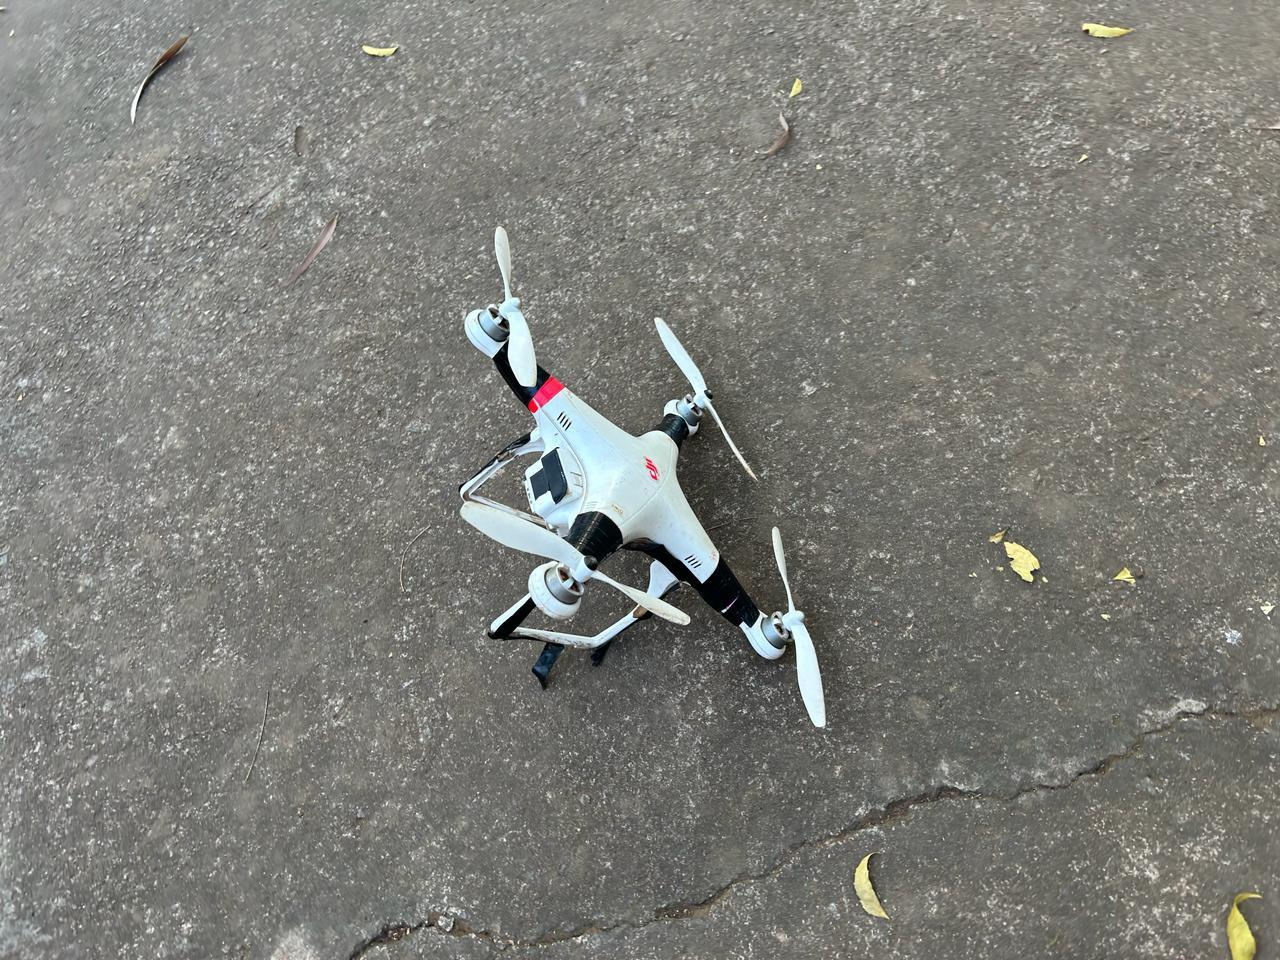drone: (429, 262, 827, 683)
